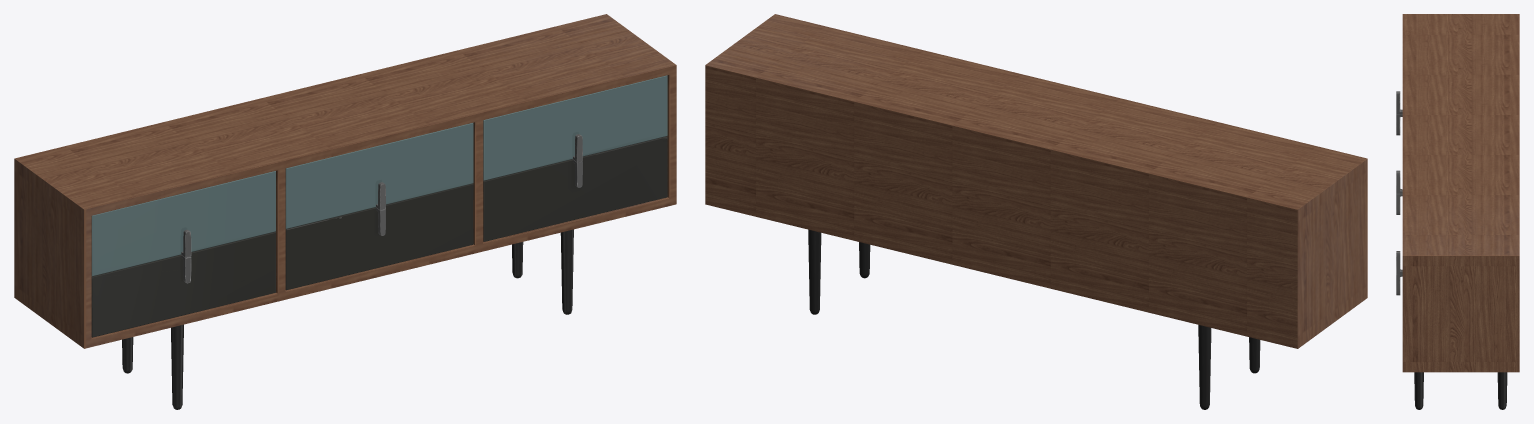
Rendered from canonical_model.obj.
The picture shows the model from 3 angles, left to right: view 1: azimuth 30°, elevation 25°; view 2: azimuth 150°, elevation 25°; view 3: azimuth 270°, elevation 25°; orthographic projection. The views are drawn at different scales.
Bounding box in the file's own units: 1 × 0.3749 × 0.2152.
1 material, 1 textured.
